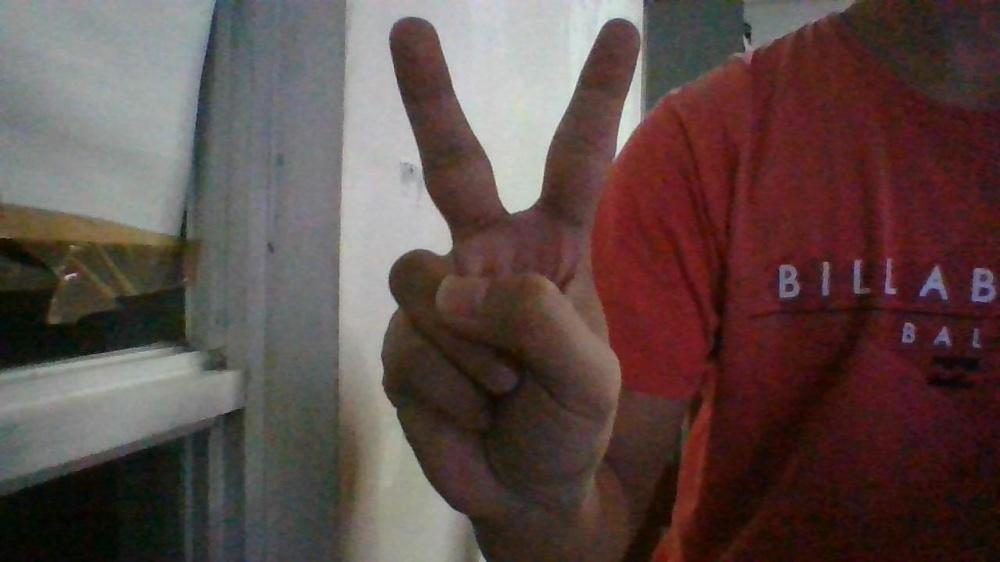v: (374, 15, 641, 524)
